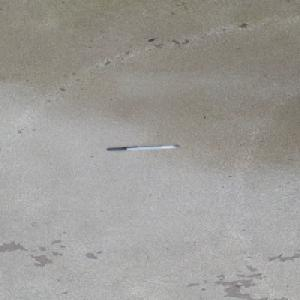Pen: (105, 144, 179, 151)
